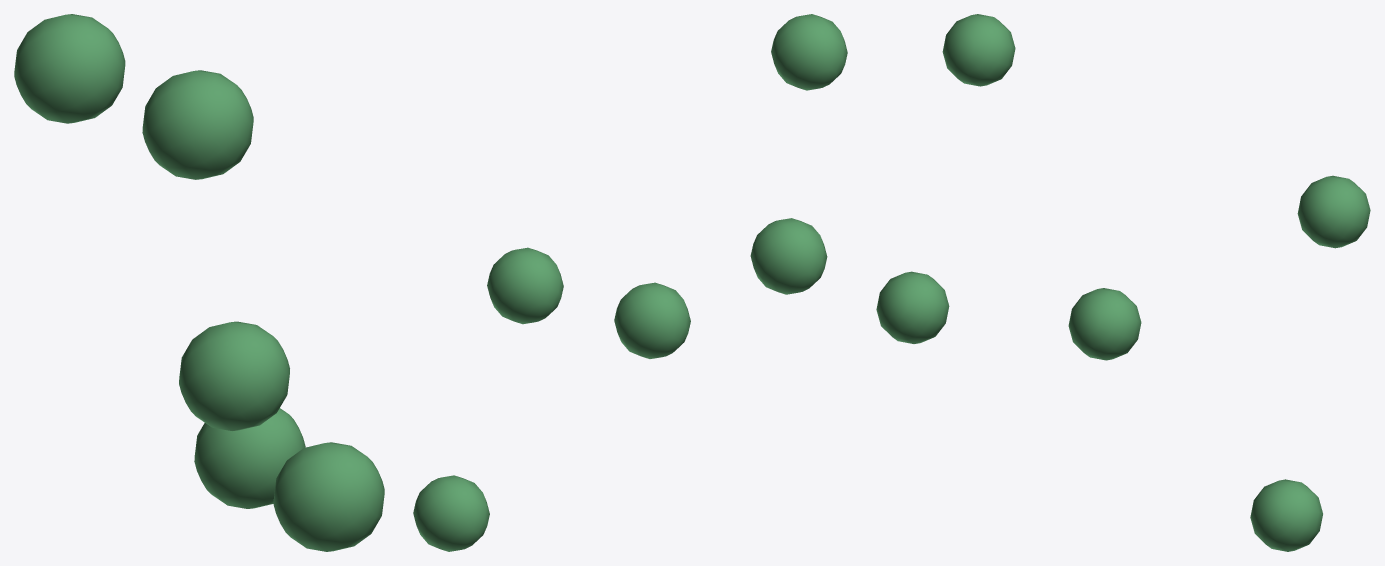
The picture shows the model from 3 angles, left to right: view 1: azimuth 30°, elevation 25°; view 2: azimuth 150°, elevation 25°; view 3: azimuth 270°, elevation 25°; orthographic projection. The views are drawn at different scales.
Parts seen in each view (by area): view 1: 右侧乳突淋巴结; view 2: 右侧乳突淋巴结; view 3: 右侧乳突淋巴结.
Part boxes in pixels (left/top/right/bottom): 右侧乳突淋巴结: left=14, top=14, right=384, bottom=551; 右侧乳突淋巴结: left=413, top=14, right=847, bottom=551; 右侧乳突淋巴结: left=876, top=14, right=1370, bottom=551.
Size of the model in its own units: 0.0151 by 0.0253 by 0.0258.
